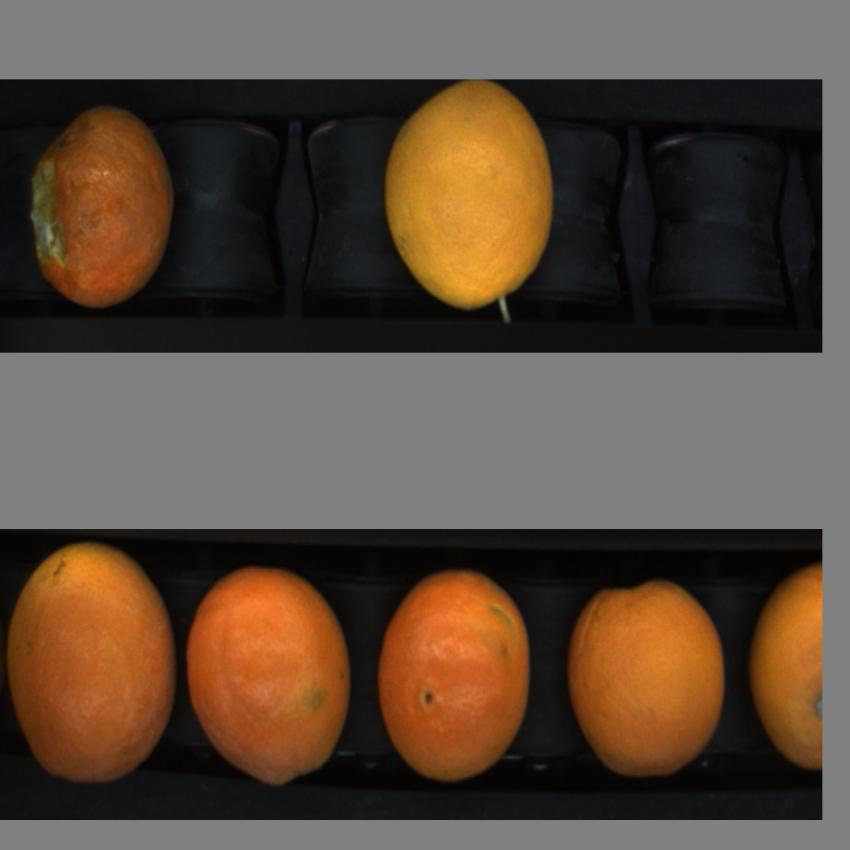Buen estado: (381, 84, 559, 327), (370, 553, 548, 785), (187, 557, 356, 795), (10, 548, 180, 780), (568, 563, 740, 786), (750, 564, 823, 775)
Mal estado: (24, 96, 184, 315)
